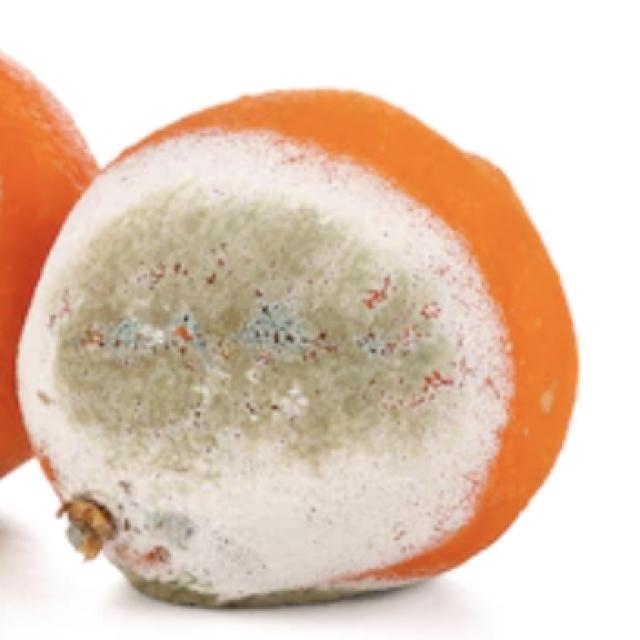sangat_busuk: (18, 91, 565, 611)
sedikit_busuk: (0, 50, 99, 475)
